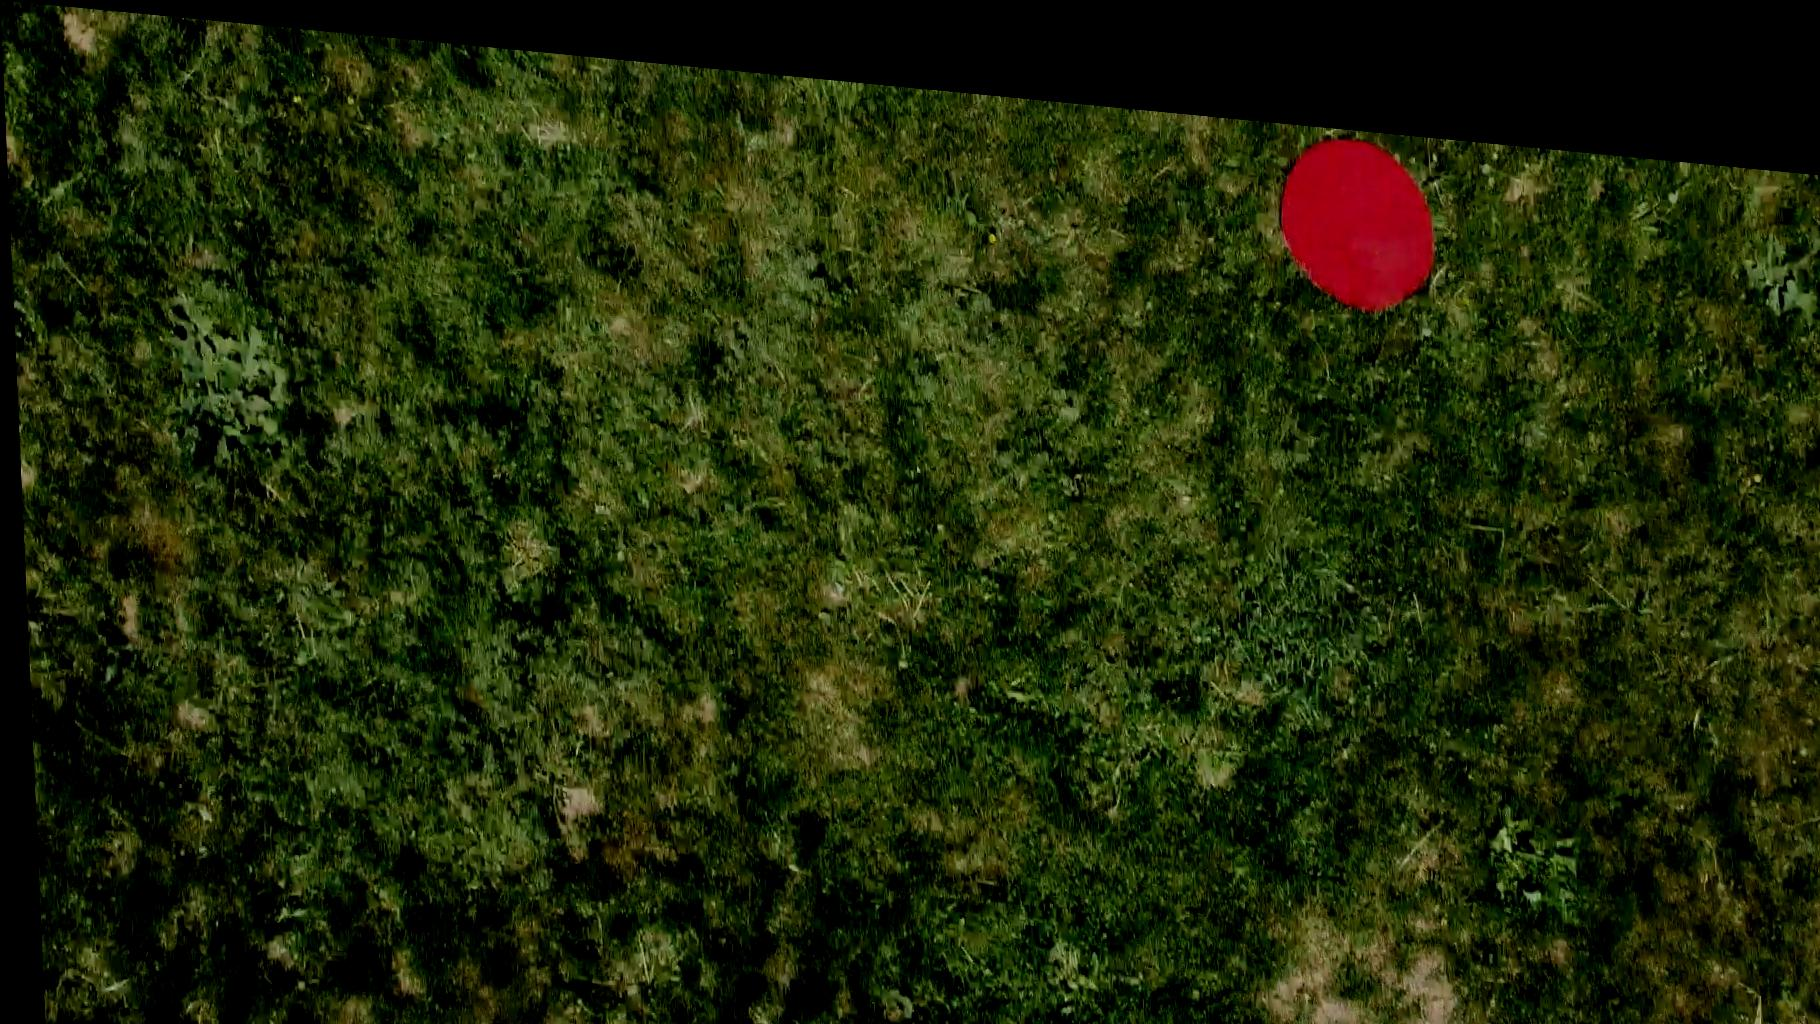Red: (1266, 100, 1440, 298)
